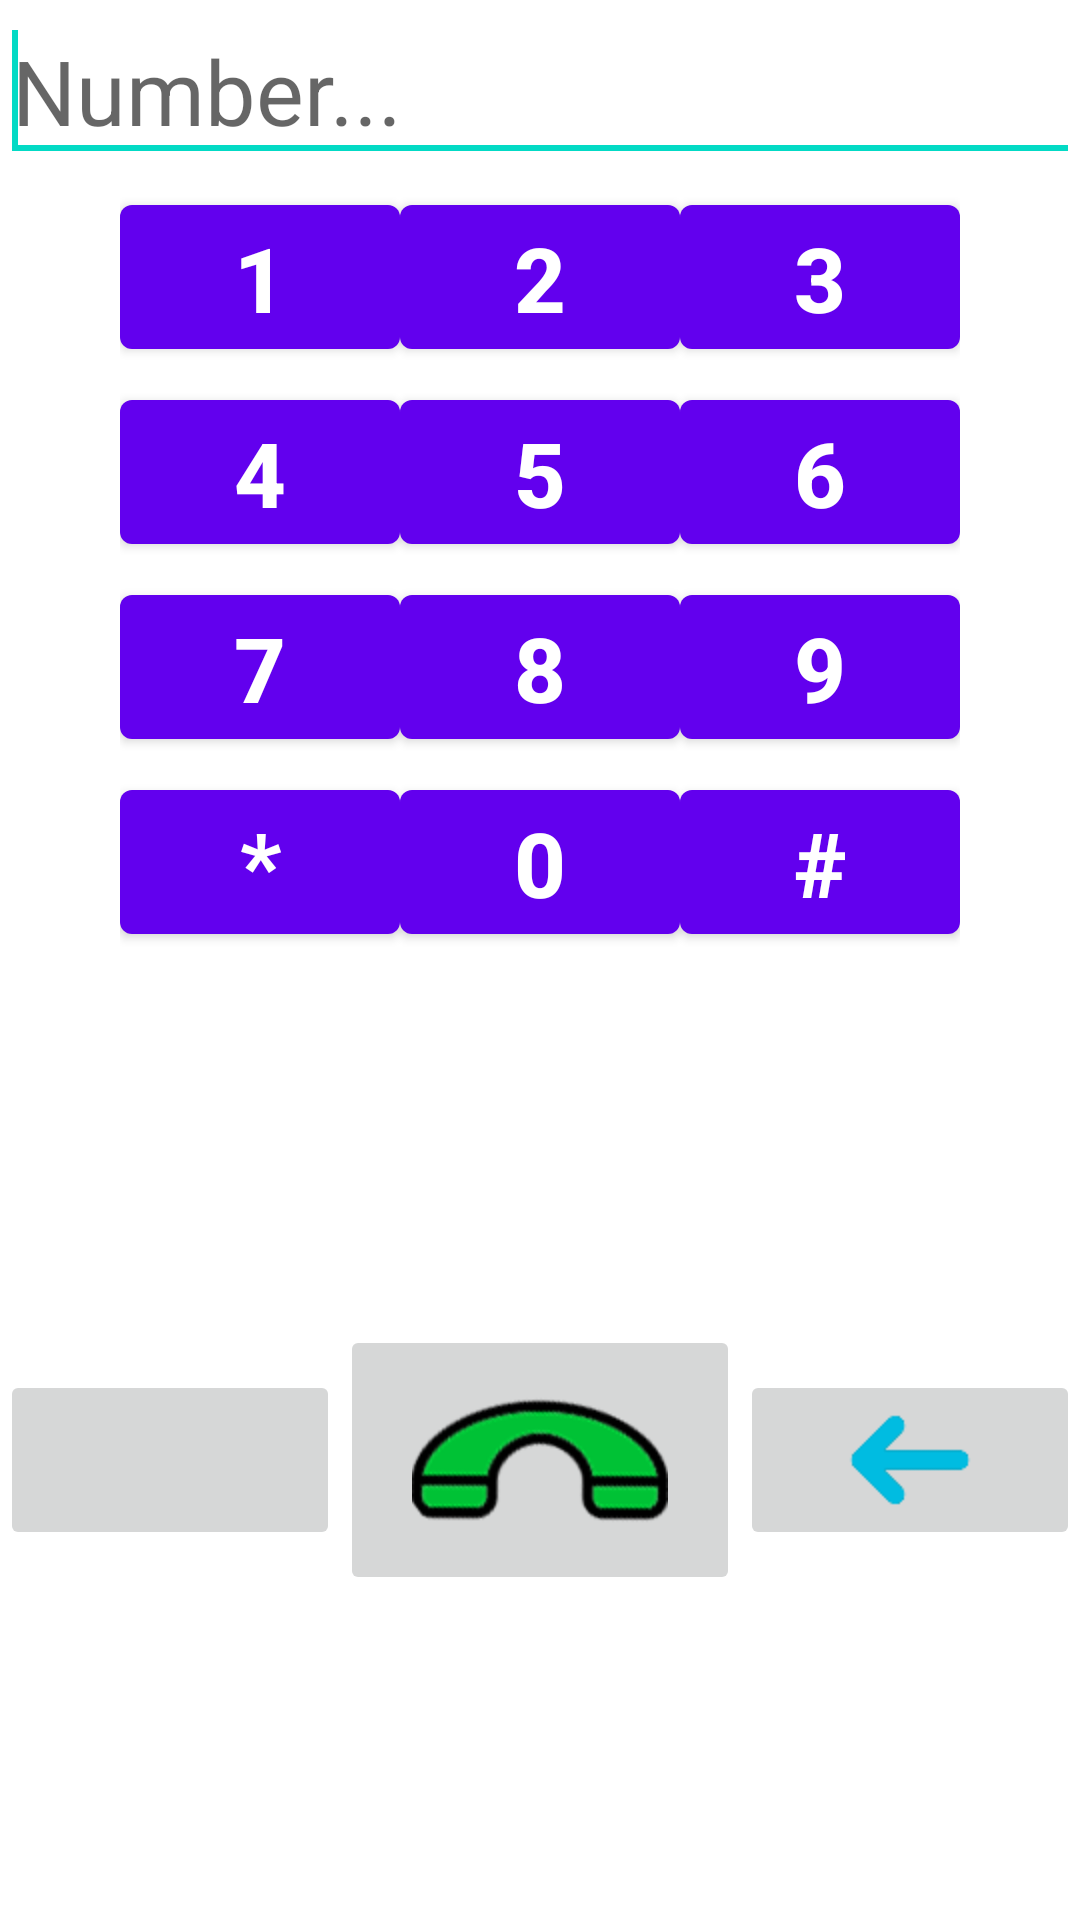

Icon bounding boxes for this 1080px×1920px phone screenshot, format [x1=x1, y1=y1, x2=x2, y2=y2]:
bspace: [x1=752, y1=1388, x2=1068, y2=1532]
